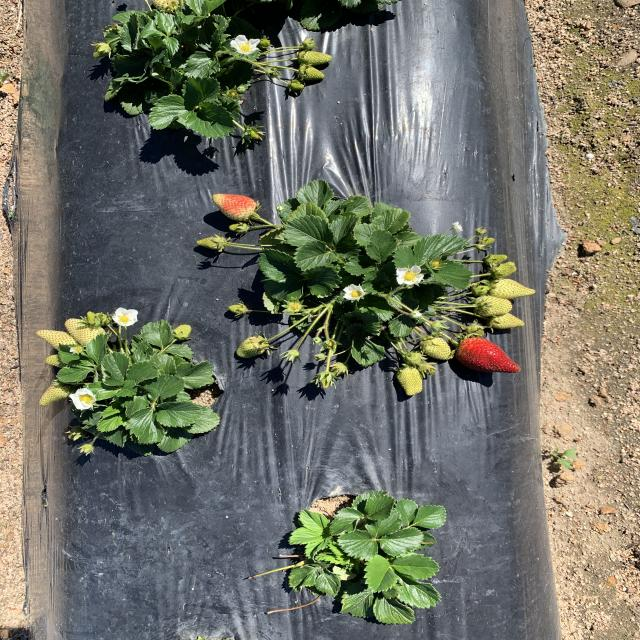unripe: (454, 336, 525, 379)
